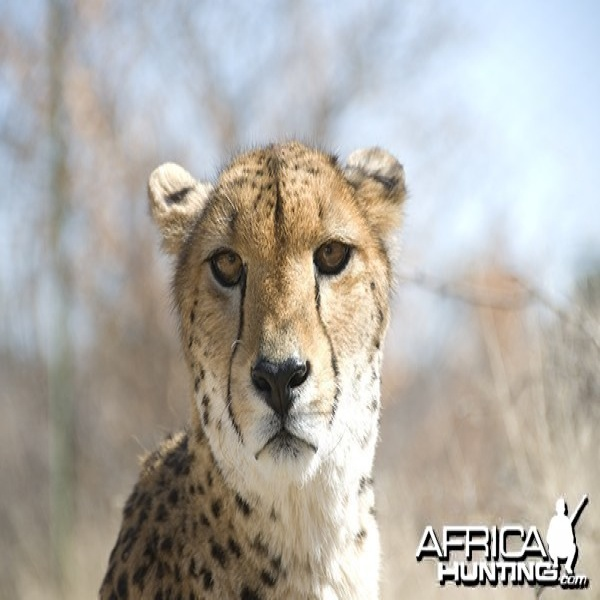Cheetah: (96, 137, 415, 600)
